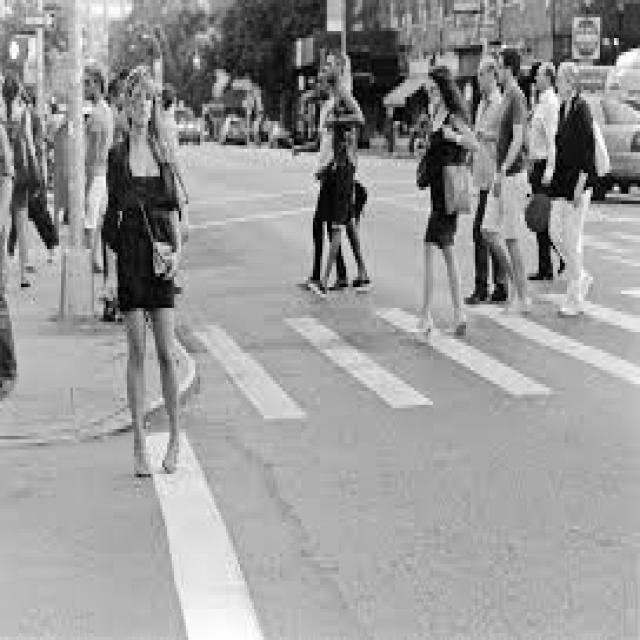Pedestrians: (96, 62, 188, 478), (410, 62, 478, 336), (546, 55, 602, 322), (482, 42, 536, 318), (308, 48, 365, 301)
